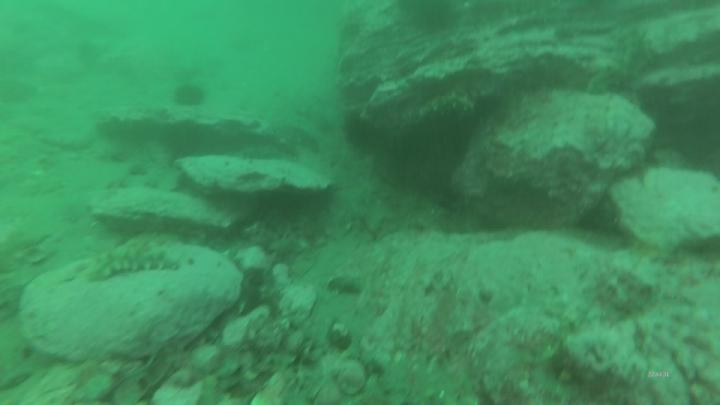echinus: (171, 81, 209, 112)
holothurian: (580, 25, 657, 99), (86, 243, 186, 288), (414, 89, 478, 129)
